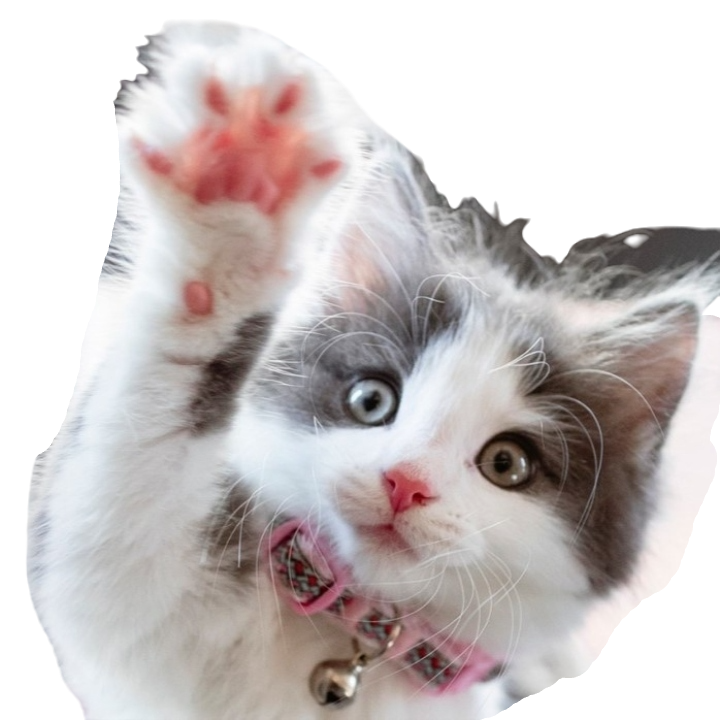Cat: (6, 2, 719, 719)
